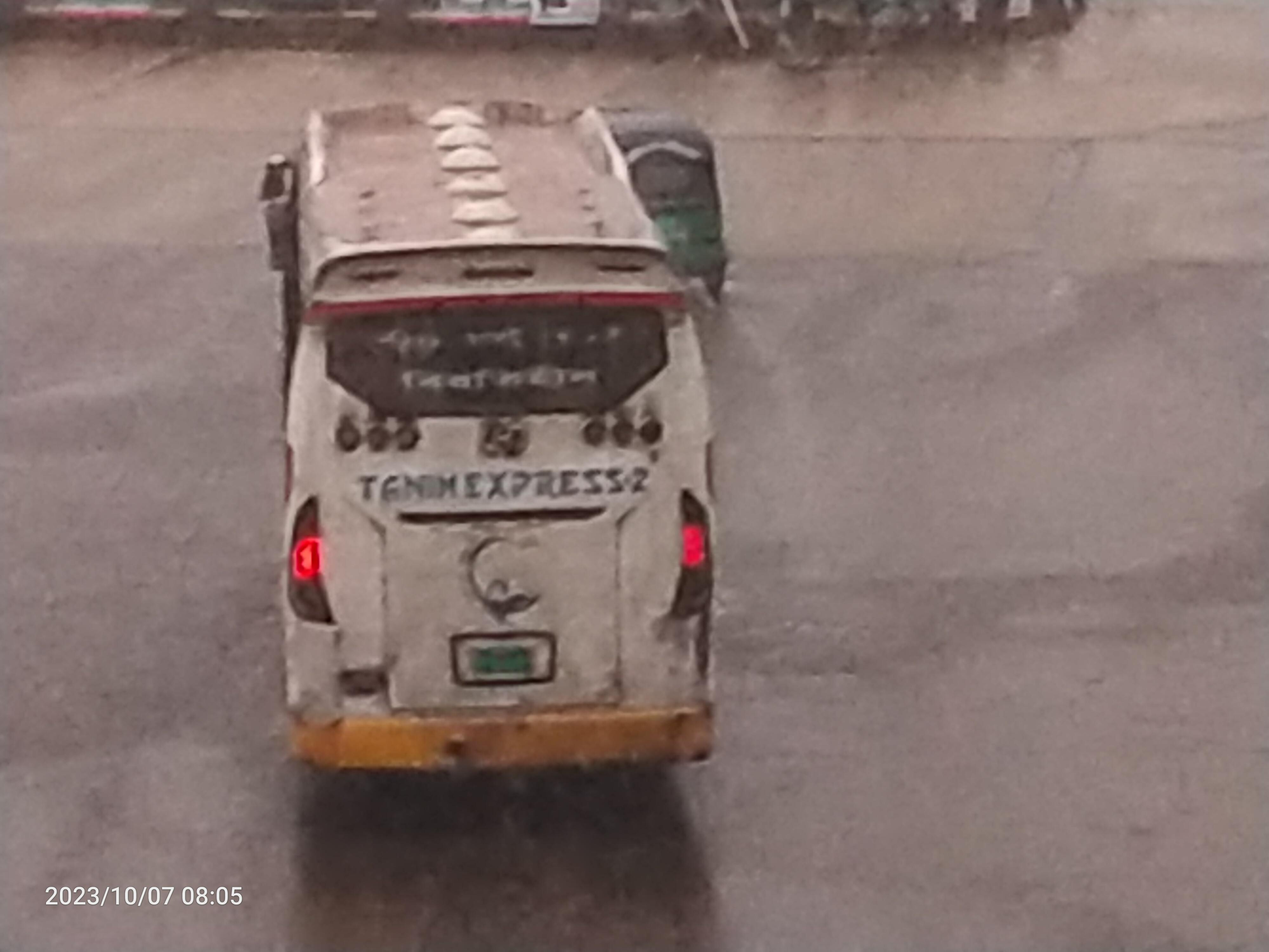Bus: (109, 47, 799, 834)
